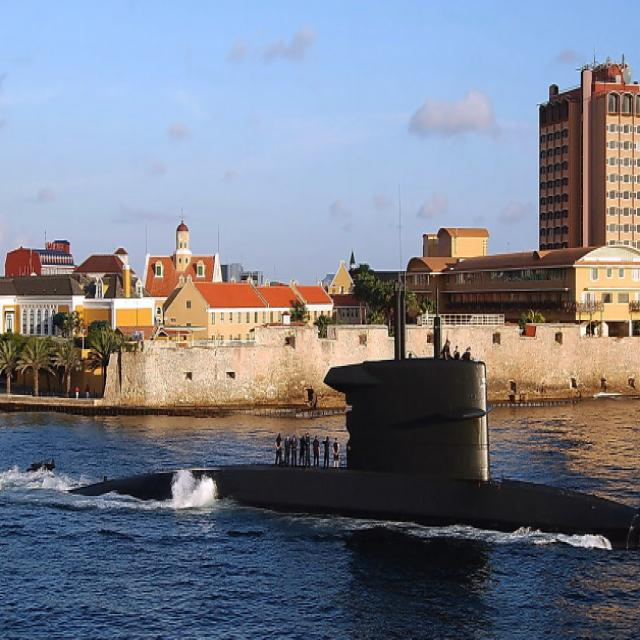submarine: (1, 269, 640, 549)
